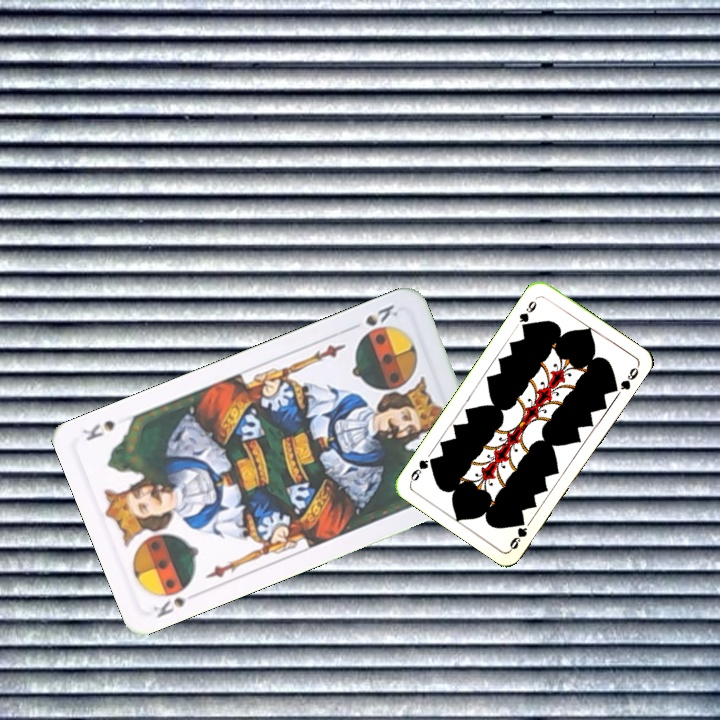G9: (505, 515, 530, 553), (515, 297, 539, 332)
SK: (361, 300, 401, 329), (148, 593, 189, 620)
